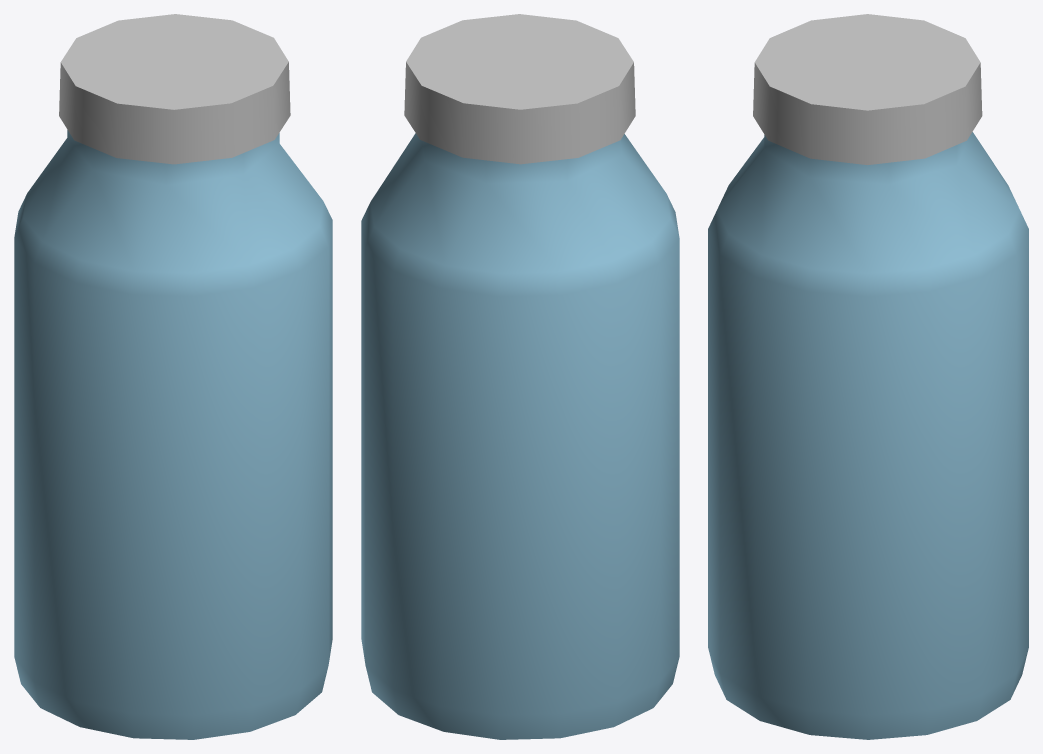
Rendered from SM_Low_Bottle_02.fbx.
The picture shows the model from 3 angles, left to right: view 1: azimuth 30°, elevation 25°; view 2: azimuth 150°, elevation 25°; view 3: azimuth 270°, elevation 25°; orthographic projection.
Visible parts, largest first — view 1: SM_Low_Bottle_02; view 2: SM_Low_Bottle_02; view 3: SM_Low_Bottle_02.
Boxes of the visible parts, x1,y1,x2,y2 form: SM_Low_Bottle_02: (14,14,332,739); SM_Low_Bottle_02: (361,14,679,739); SM_Low_Bottle_02: (708,14,1028,739).
Size of the model in its own units: 6.17 by 13 by 6.17.
